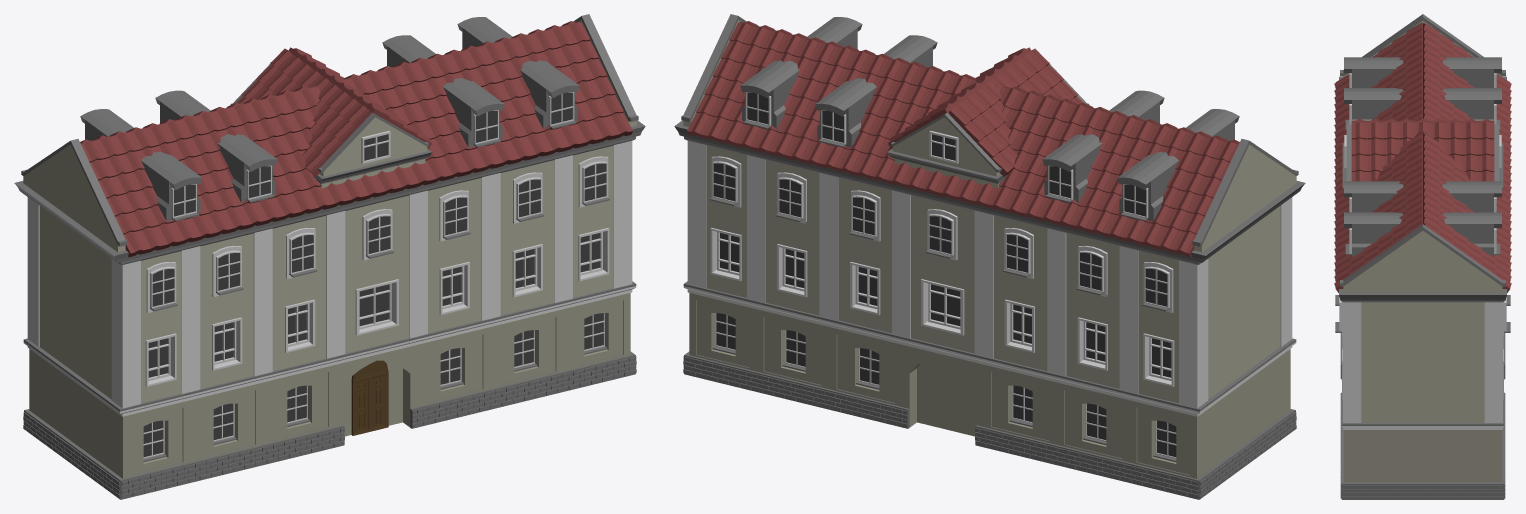
Rendered from Building1_Large.glb.
3 views of the same model, side by side, from view 1: azimuth 30°, elevation 25°; view 2: azimuth 150°, elevation 25°; view 3: azimuth 270°, elevation 25° (orthographic). The views are drawn at different scales.
Visible parts, largest first — view 1: Building1_Large; view 2: Building1_Large; view 3: Building1_Large.
Part boxes in pixels (x1=…): Building1_Large: x1=14, y1=14, x2=645, y2=499; Building1_Large: x1=674, y1=14, x2=1305, y2=499; Building1_Large: x1=1334, y1=14, x2=1511, y2=499.
Size of the model in its own units: 7.99 by 4.67 by 2.74.
